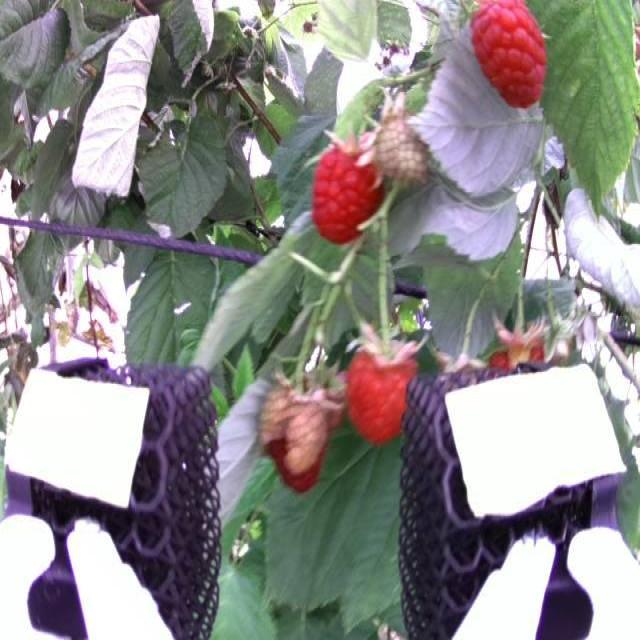Riped berries: (467, 0, 548, 110), (347, 328, 420, 440), (313, 132, 386, 242), (265, 389, 337, 491), (490, 312, 550, 386)
